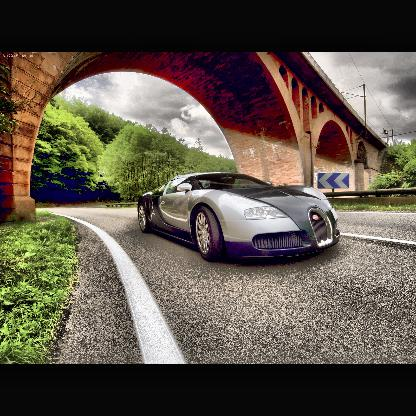Bugatti Veyron 16-4 Coupe 2009: (138, 174, 340, 263)
